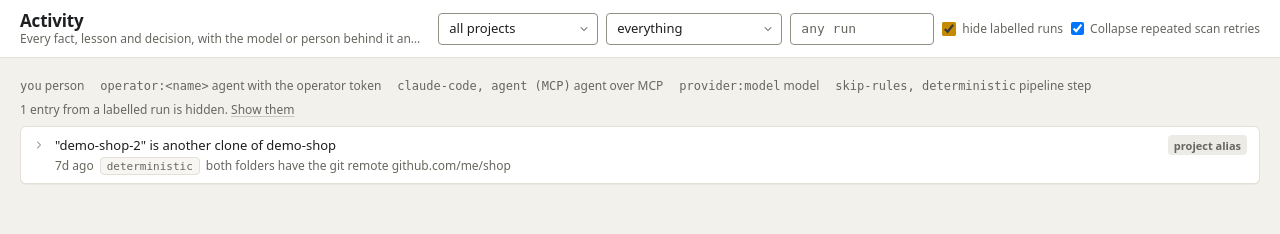
Scenario: labelled runs are hidden by default, saying how many; unhiding asks the API for them too
Expected: the text "\"demo-shop-2\" is another clone of demo-shop" is shown, [55, 136, 336, 154]
Expected: the text "context for \"tune it\"" is not shown
Step 1. Click the checkbox labelled "hide labelled runs" → (949, 29), box [942, 22, 956, 36]
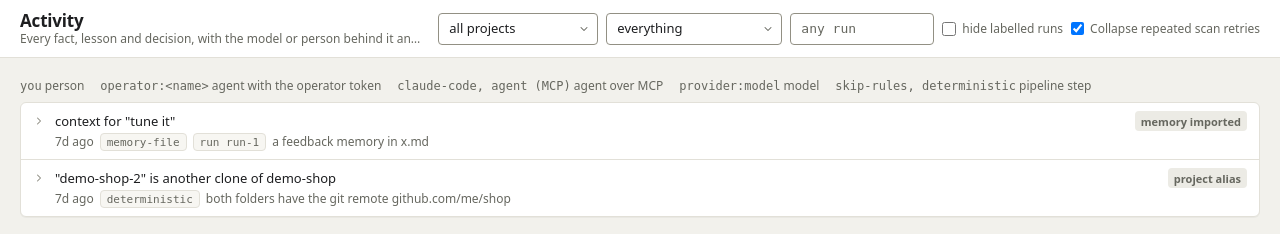
Expected: the text "context for \"tune it\"" is shown, [55, 112, 175, 130]
